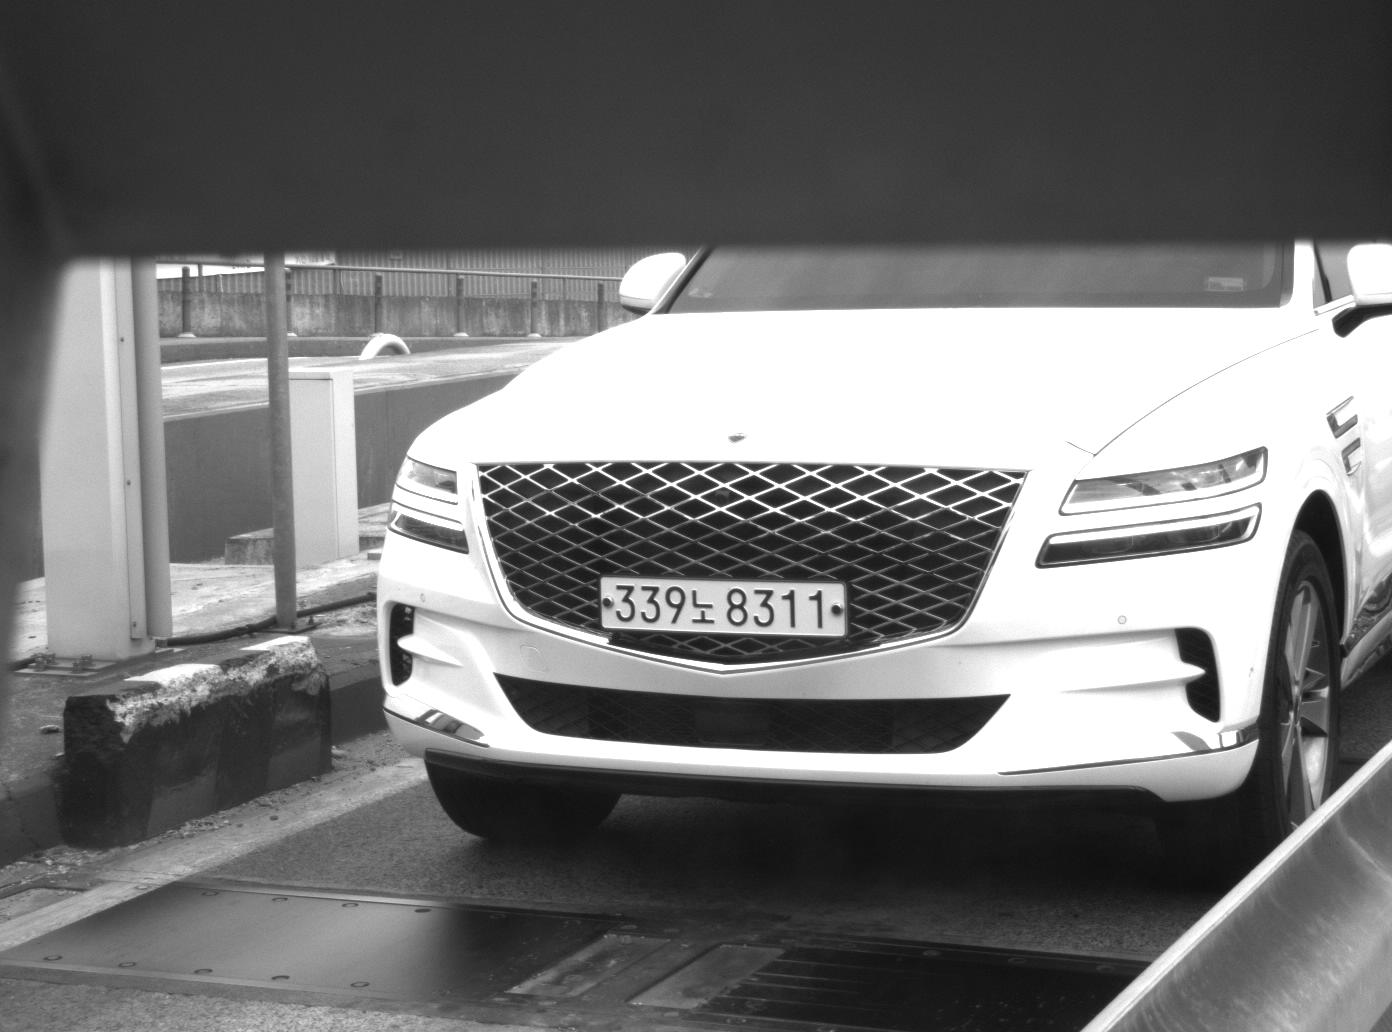car: (370, 251, 1392, 893)
plate: (597, 577, 848, 639)
